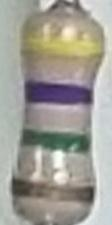Blue: (24, 81, 96, 106)
Green: (24, 126, 91, 153)
Side-Gold: (12, 178, 94, 204)
Yellow: (23, 37, 103, 58)
